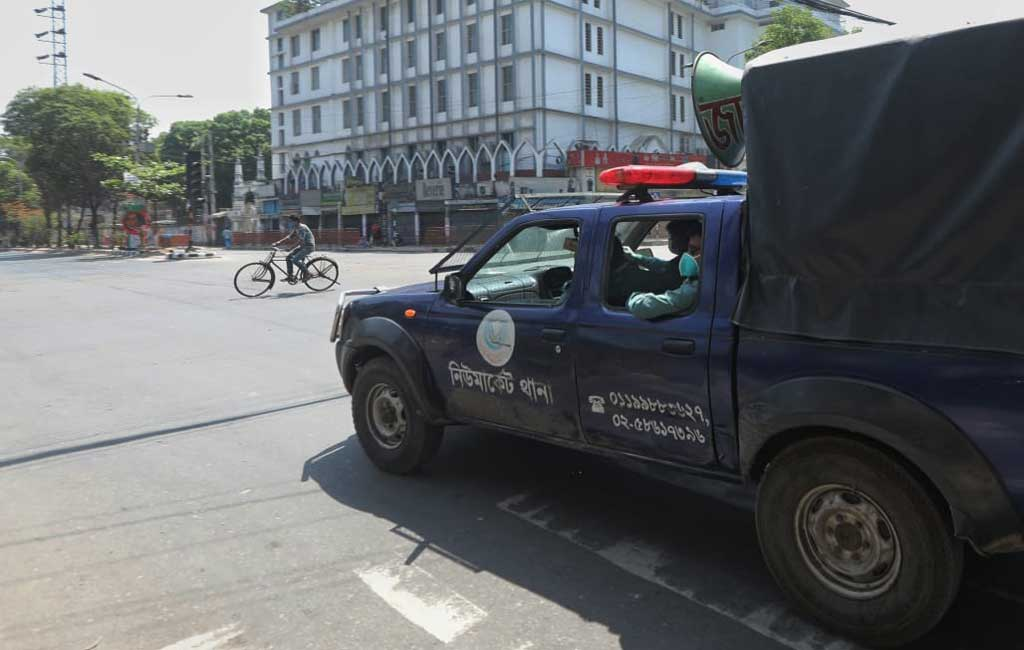bicycle: (232, 243, 339, 300)
policecar: (328, 2, 1024, 643)
